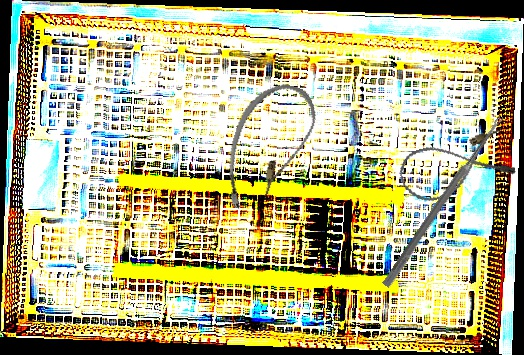Cannula: (214, 74, 324, 223), (394, 125, 518, 208)
Surgical Spoon: (382, 113, 505, 289)
